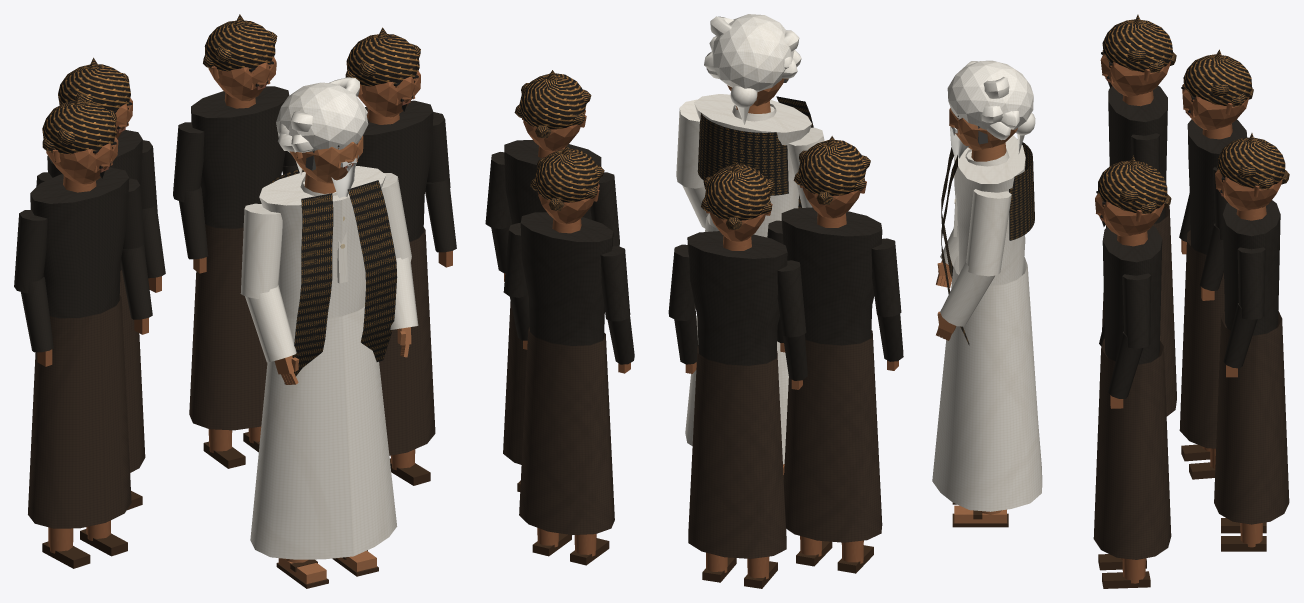
The model's file is 11B.Banten_1888_Ulama_Scene_AssemblrWebAR.glb.
3 renders of one model, left to right at view 1: azimuth 30°, elevation 25°; view 2: azimuth 150°, elevation 25°; view 3: azimuth 270°, elevation 25°, orthographic. The views are drawn at different scales.
Parts seen in each view (by area): view 1: Main_Banten_Ulama_1888, Follower_Left_Foreground, Follower_Back_Center, Follower_Right_Midground, Follower_Mid_Left, Ulama_Right_Arm, Ulama_White_Turban, Follower_Head (×3), Follower_Left_Foreground_Banten_Iket, Ulama_Left_Arm, Follower_Right_Midground_Banten_Iket, Follower_Back_Center_Banten_Iket (+2 smaller); view 2: Follower_Mid_Left, Follower_Back_Center, Follower_Left_Foreground, Main_Banten_Ulama_1888, Follower_Right_Midground, Ulama_White_Turban, Follower_Head (×4), Follower_Left_Foreground_Banten_Iket, Follower_Mid_Left_Banten_Iket, Follower_Right_Midground_Banten_Iket, Follower_Back_Center_Banten_Iket, Ulama_Left_Arm (+1 smaller); view 3: Main_Banten_Ulama_1888, Follower_Right_Midground, Follower_Back_Center, Follower_Mid_Left, Follower_Left_Foreground, Follower_Head (×4), Ulama_White_Turban, Ulama_Left_Arm, Follower_Left_Foreground_Banten_Iket, Follower_Right_Midground_Banten_Iket, Follower_Back_Center_Banten_Iket, Follower_Mid_Left_Banten_Iket (+2 smaller).
Part boxes in pixels (x1,y1,x2,y2): Main_Banten_Ulama_1888: (250,166,397,588); Follower_Left_Foreground: (14,167,152,568); Follower_Back_Center: (173,86,298,468); Follower_Right_Midground: (356,100,456,485); Follower_Mid_Left: (36,130,165,510); Ulama_Right_Arm: (240,203,298,384); Ulama_White_Turban: (276,77,368,175); Follower_Head (×3): (46,57,420,184); Follower_Left_Foreground_Banten_Iket: (42,94,116,154); Ulama_Left_Arm: (381,173,418,357); Follower_Right_Midground_Banten_Iket: (345,27,420,86); Follower_Back_Center_Banten_Iket: (203,14,277,71); Follower_Mid_Left: (668,231,807,588); Follower_Back_Center: (503,212,634,565); Follower_Left_Foreground: (767,207,903,573); Main_Banten_Ulama_1888: (685,94,813,479); Follower_Right_Midground: (485,140,619,491); Ulama_White_Turban: (704,14,801,124); Follower_Head (×4): (522,110,866,241); Follower_Left_Foreground_Banten_Iket: (793,136,870,204); Follower_Mid_Left_Banten_Iket: (701,162,774,229); Follower_Right_Midground_Banten_Iket: (514,70,591,138); Follower_Back_Center_Banten_Iket: (530,145,604,210); Ulama_Left_Arm: (676,99,708,228); Main_Banten_Ulama_1888: (932,135,1042,527); Follower_Right_Midground: (1093,226,1171,588); Follower_Back_Center: (1214,200,1289,551); Follower_Mid_Left: (1179,119,1247,479); Follower_Left_Foreground: (1102,85,1176,416); Follower_Head (×4): (1095,50,1282,236); Ulama_White_Turban: (947,60,1035,153); Ulama_Left_Arm: (936,189,1011,340); Follower_Left_Foreground_Banten_Iket: (1102,14,1176,72); Follower_Right_Midground_Banten_Iket: (1098,155,1171,213); Follower_Back_Center_Banten_Iket: (1217,133,1289,189); Follower_Mid_Left_Banten_Iket: (1183,49,1253,106).
Size of what is drawn, in the model's own units: 1.66 by 1.74 by 1.26.
21 materials, 13 textured.
